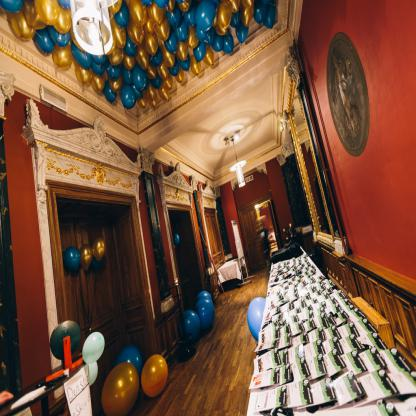Ball: (50, 320, 80, 360)
